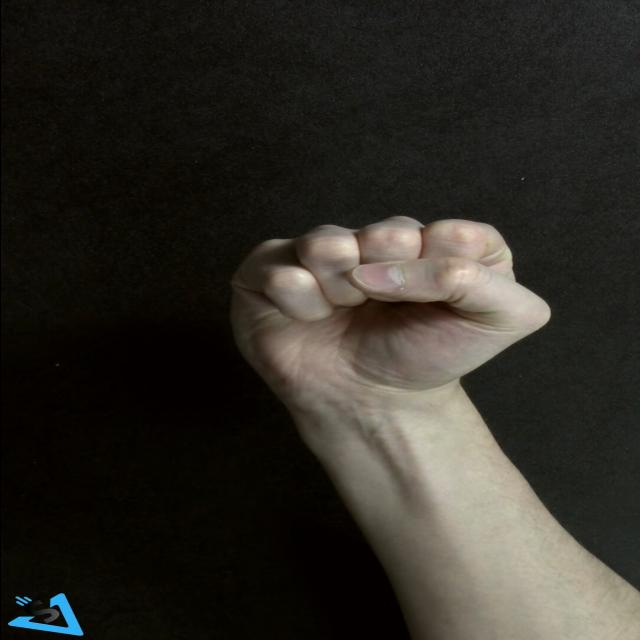Rock: (225, 216, 557, 396)
